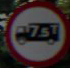Heavy Vehicles: (8, 6, 63, 61)
